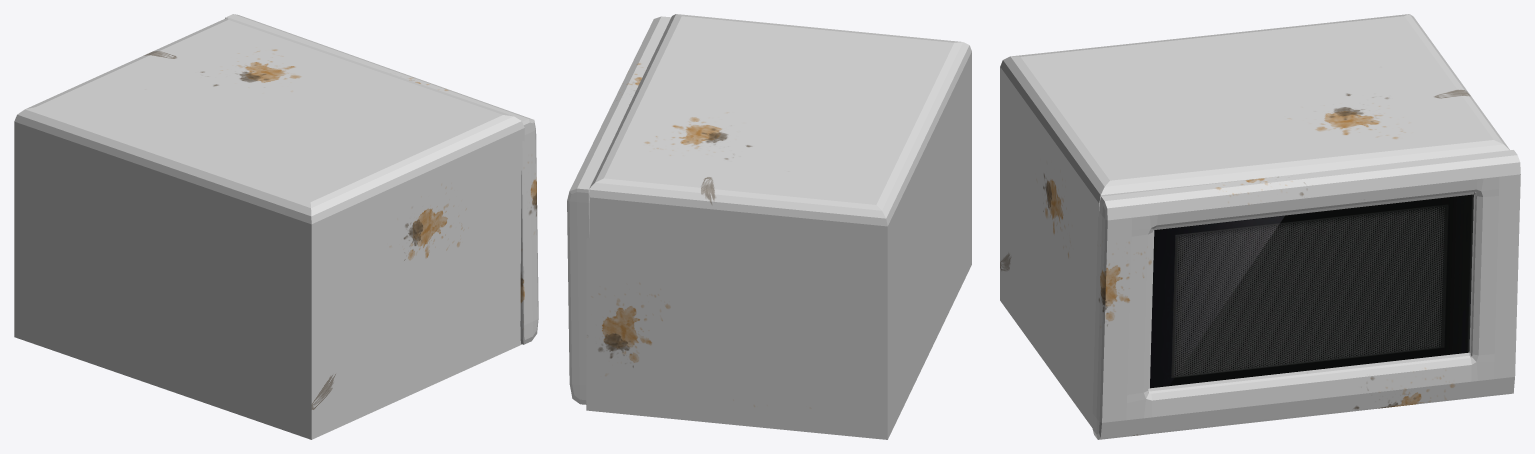
The model's file is Microwave NEW.fbx.
3 renders of one model, left to right at view 1: azimuth 30°, elevation 25°; view 2: azimuth 150°, elevation 25°; view 3: azimuth 270°, elevation 25°, orthographic. The views are drawn at different scales.
Parts seen in each view (by area): view 1: Microwave, MicrowaveDoor.001; view 2: Microwave, MicrowaveDoor.001; view 3: Microwave, MicrowaveDoor.001, MicrowaveDoor.
Boxes of the visible parts, x1=… form: Microwave: x1=14, y1=17, x2=524, y2=439; MicrowaveDoor.001: x1=225, y1=14, x2=538, y2=344; Microwave: x1=586, y1=14, x2=971, y2=439; MicrowaveDoor.001: x1=567, y1=16, x2=670, y2=404; Microwave: x1=1000, y1=14, x2=1513, y2=427; MicrowaveDoor.001: x1=1092, y1=150, x2=1520, y2=439; MicrowaveDoor: x1=1150, y1=194, x2=1473, y2=388.
Size of the model in its own units: 57.75 by 34.83 by 63.12.
